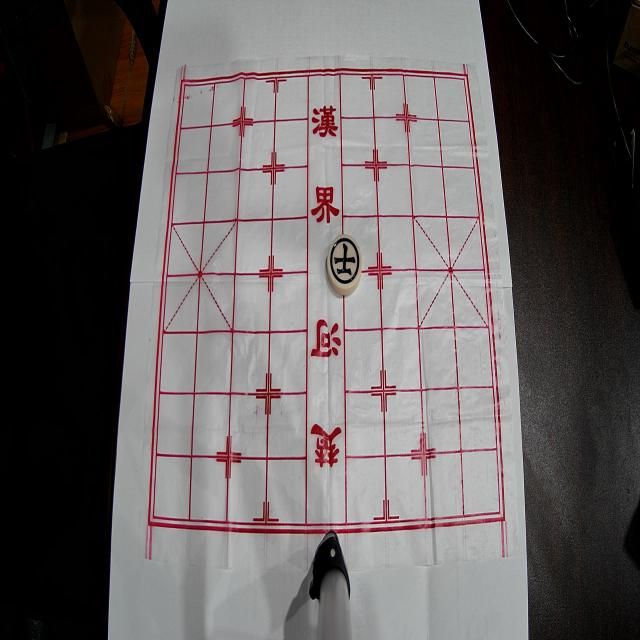black-guard: (328, 234, 362, 295)
